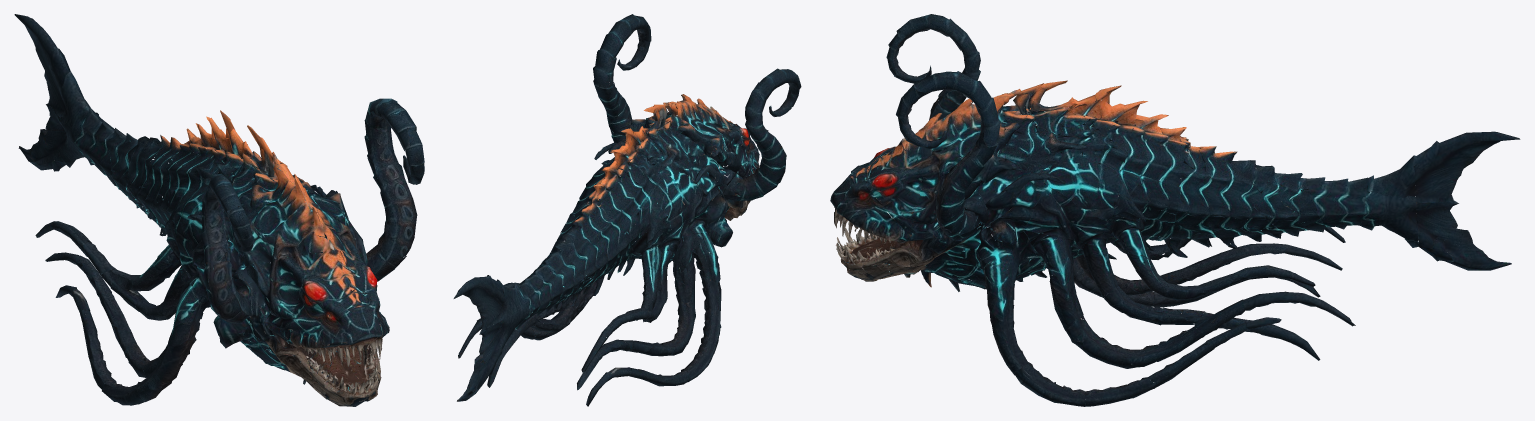
The model's file is abyssal-boss.glb.
3 views of the same model, side by side, from view 1: azimuth 30°, elevation 25°; view 2: azimuth 150°, elevation 25°; view 3: azimuth 270°, elevation 25° (orthographic). The views are drawn at different scales.
Parts seen in each view (by area): view 1: AbyssalBody; view 2: AbyssalBody; view 3: AbyssalBody.
Boxes of the visible parts, <box> form: AbyssalBody: <box>14,14,424,406</box>; AbyssalBody: <box>453,14,801,406</box>; AbyssalBody: <box>830,14,1520,406</box>.
Bounding box in the file's own units: 0.6641 × 0.9949 × 1.9.
Materials: 1 (1 with a texture image).
